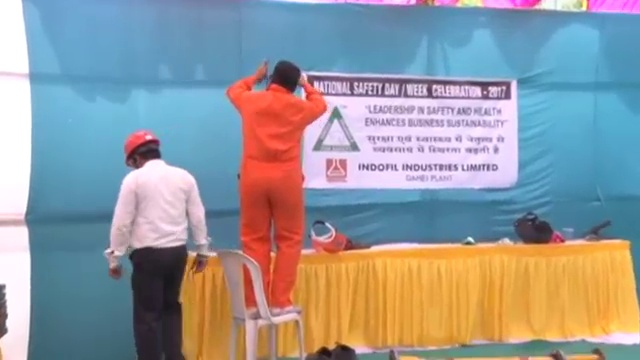helmet: (123, 128, 160, 164)
helmet_off: (267, 58, 300, 93)
helmet_on: (122, 128, 164, 169)
person: (226, 59, 327, 317), (103, 129, 211, 360)
